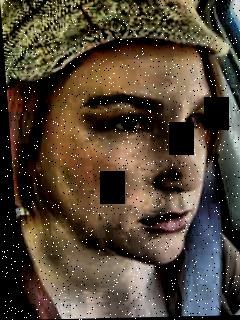seatbelt: (151, 122, 240, 307)
